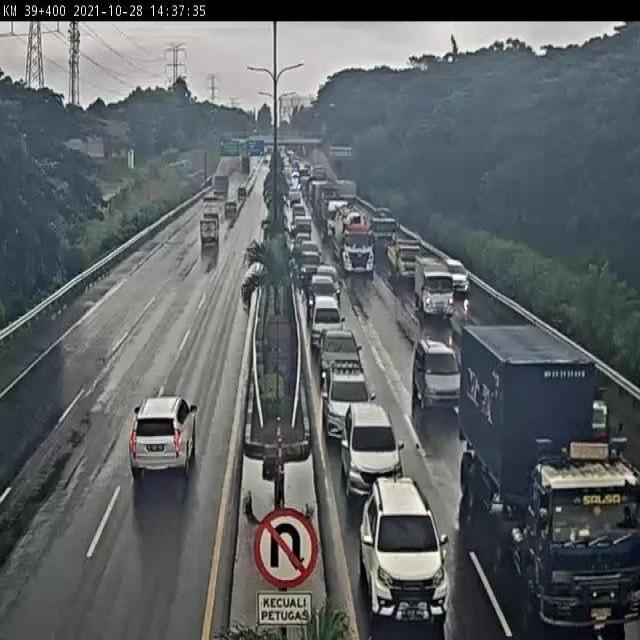big truck: (458, 320, 635, 601)
car: (106, 375, 207, 513), (364, 464, 451, 607), (347, 394, 404, 502), (324, 360, 375, 440), (413, 325, 455, 399), (319, 321, 371, 379), (306, 292, 348, 345), (309, 269, 335, 319), (446, 255, 470, 300), (197, 216, 219, 255), (300, 239, 322, 277), (290, 222, 313, 254), (219, 196, 236, 227)
small truck: (413, 250, 446, 314), (339, 222, 376, 274), (386, 235, 416, 281), (370, 208, 394, 248)
